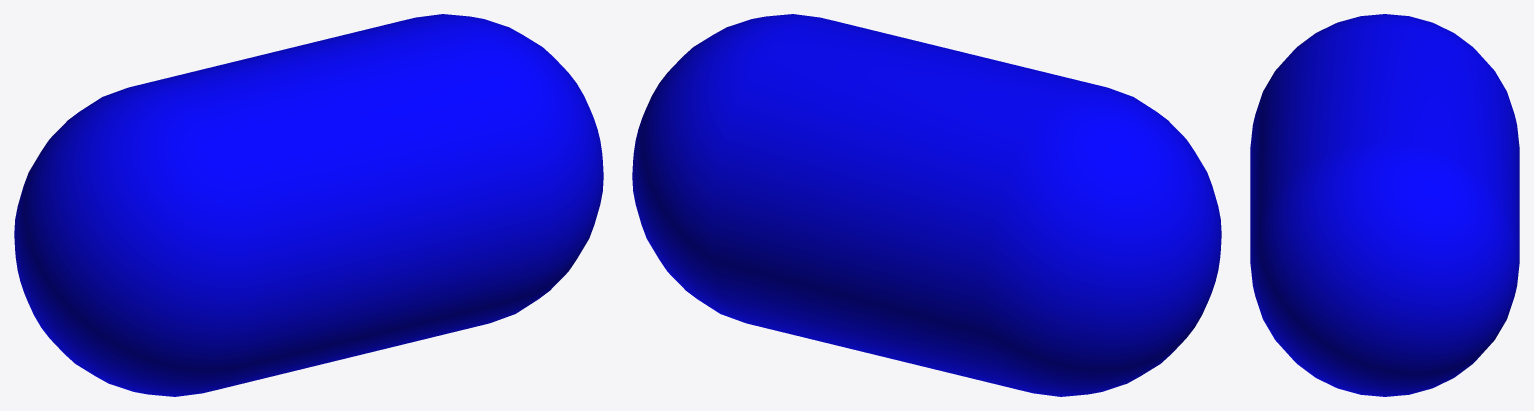
File: block_blue.glb
3 views of the same model, side by side, from view 1: azimuth 30°, elevation 25°; view 2: azimuth 150°, elevation 25°; view 3: azimuth 270°, elevation 25° (orthographic). The views are drawn at different scales.
Parts seen in each view (by area): view 1: Sphere; view 2: Sphere; view 3: Sphere.
Boxes of the visible parts, x1=… form: Sphere: x1=14, y1=14, x2=603, y2=396; Sphere: x1=632, y1=14, x2=1221, y2=396; Sphere: x1=1250, y1=14, x2=1519, y2=396.
Bounding box in the file's own units: 2 × 1 × 1.
